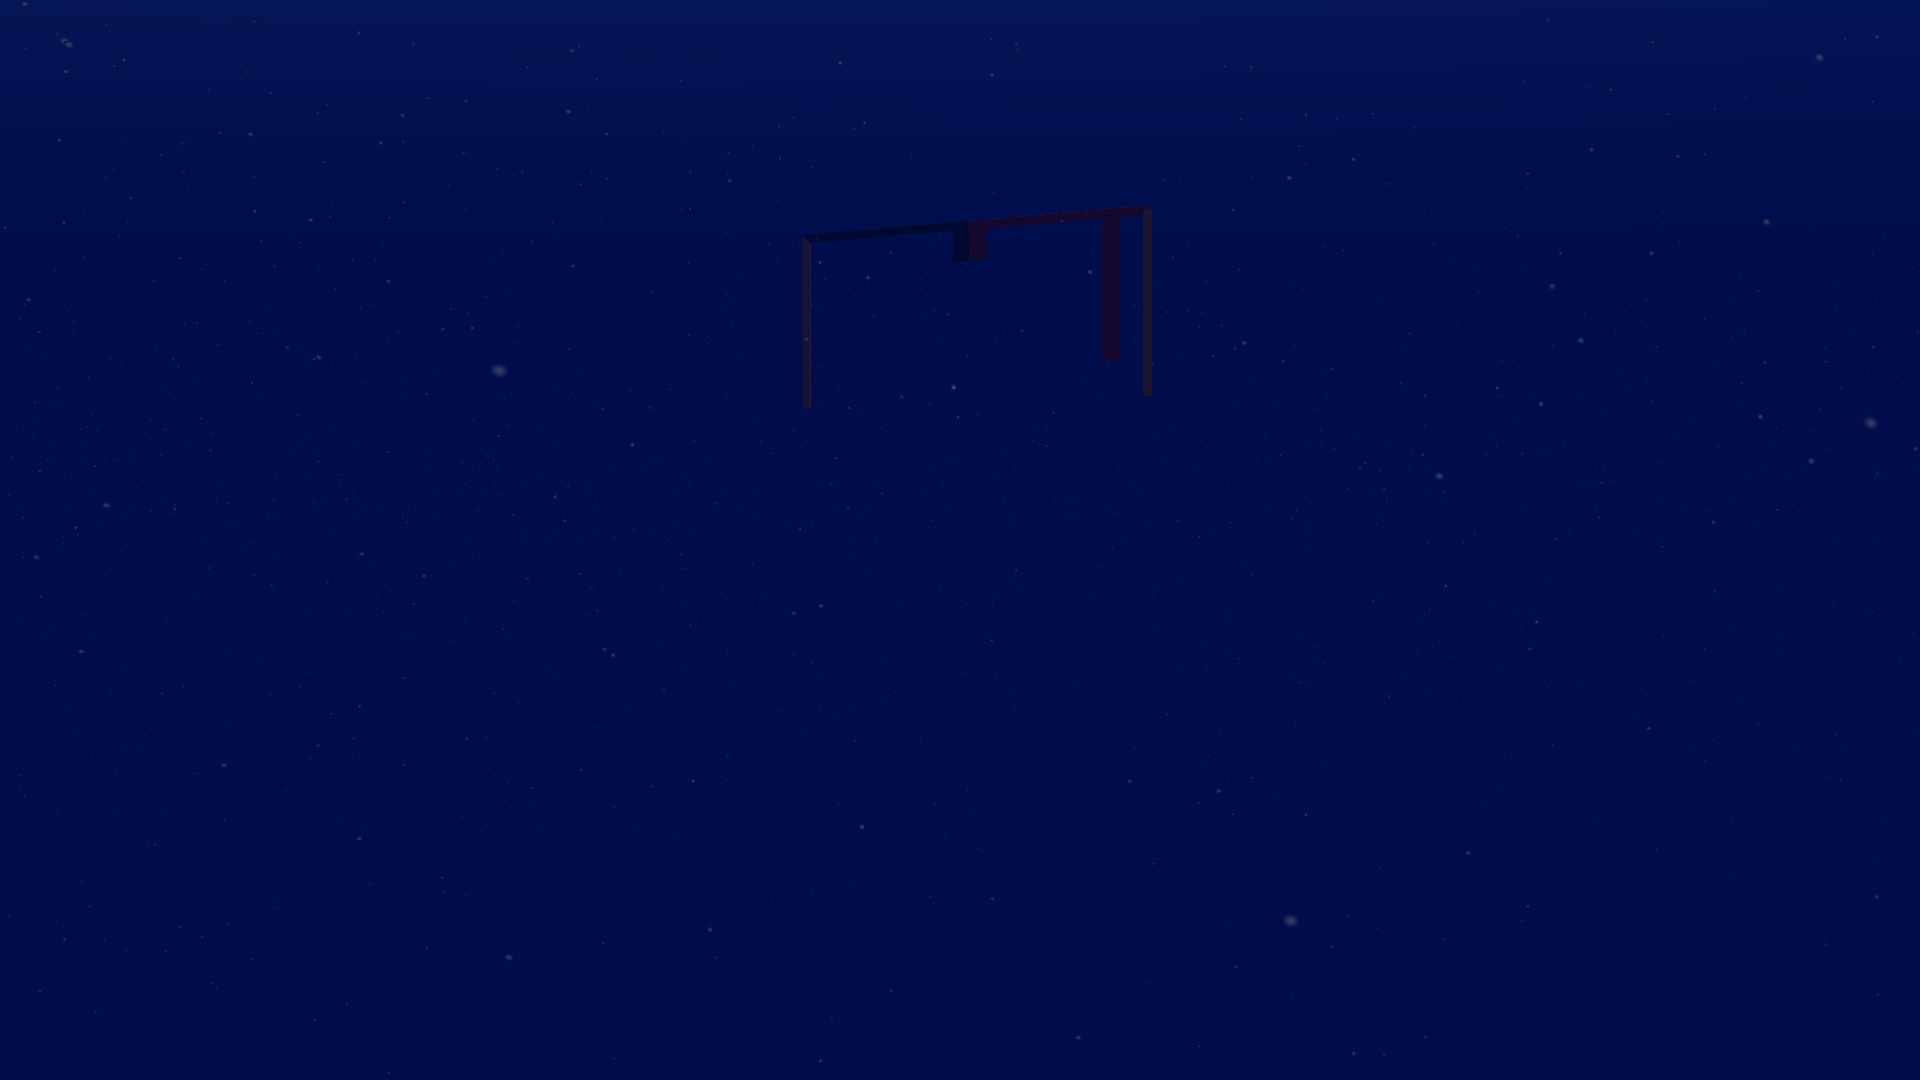Gate: (789, 196, 1163, 419)
